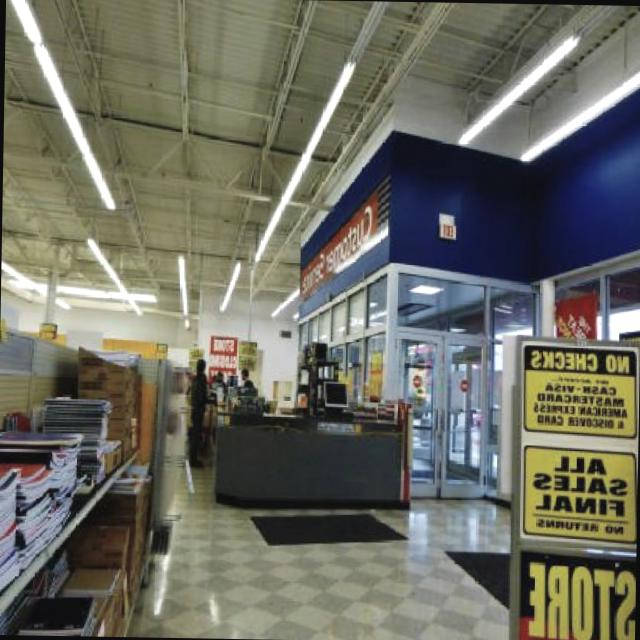Person: (186, 354, 210, 470), (242, 366, 254, 394), (218, 373, 226, 392)
